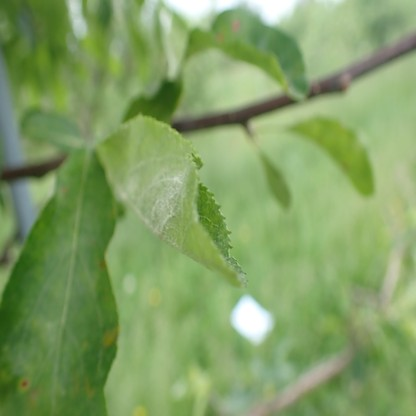powder: (147, 166, 187, 250), (115, 177, 140, 202)
